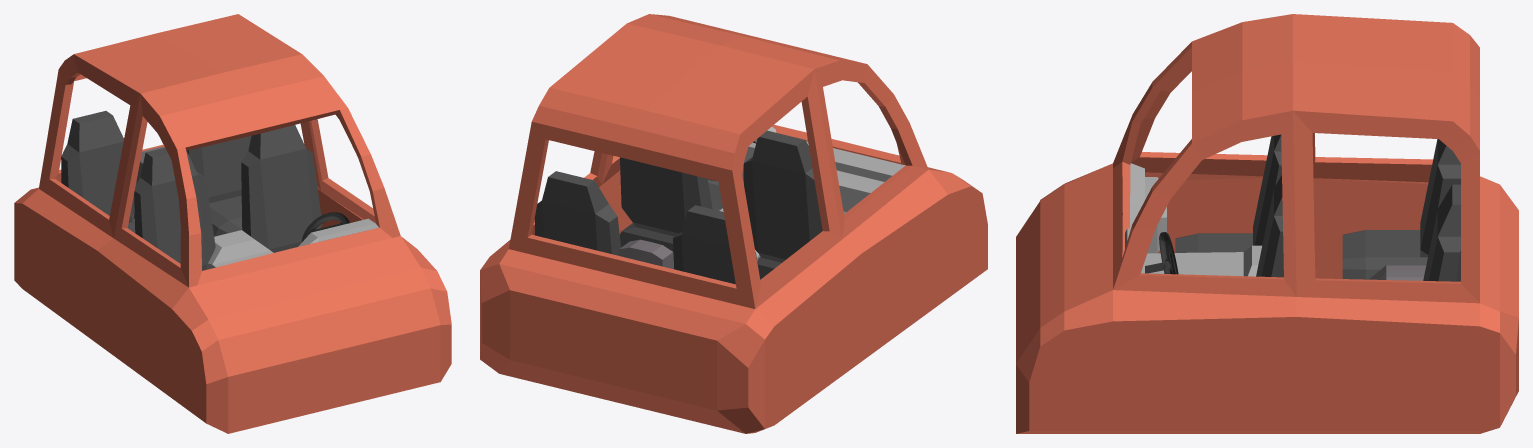
The model's file is low poly car.fbx.
The picture shows the model from 3 angles, left to right: view 1: azimuth 30°, elevation 25°; view 2: azimuth 150°, elevation 25°; view 3: azimuth 270°, elevation 25°; orthographic projection. The views are drawn at different scales.
Visible parts, largest first — view 1: frame, front seats, back seats, counter, steering wheel; view 2: frame, front seats, back seats, counter; view 3: frame, back seats, front seats, counter, steering wheel.
Part boxes in pixels (left/top/right/bottom): frame: left=14, top=14, right=451, bottom=433; front seats: left=134, top=125, right=322, bottom=270; back seats: left=61, top=111, right=251, bottom=236; counter: left=206, top=218, right=378, bottom=269; steering wheel: left=301, top=212, right=350, bottom=242; frame: left=480, top=14, right=987, bottom=433; front seats: left=620, top=130, right=822, bottom=279; back seats: left=534, top=171, right=760, bottom=284; counter: left=708, top=127, right=905, bottom=261; frame: left=1016, top=14, right=1518, bottom=433; back seats: left=1342, top=139, right=1460, bottom=281; front seats: left=1175, top=134, right=1283, bottom=277; counter: left=1125, top=163, right=1261, bottom=276; steering wheel: left=1145, top=232, right=1178, bottom=274.
Size of the model in its own units: 196 by 193 by 284.
